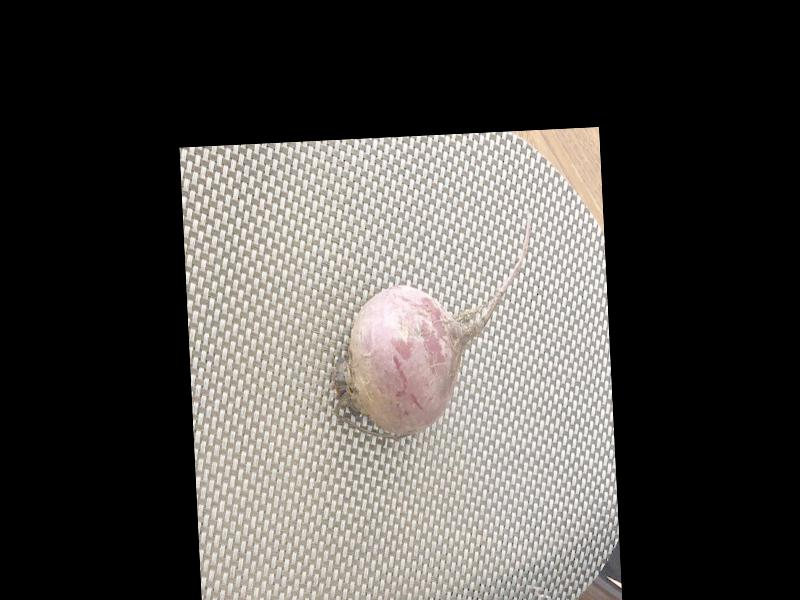Beet: (322, 213, 542, 440)
